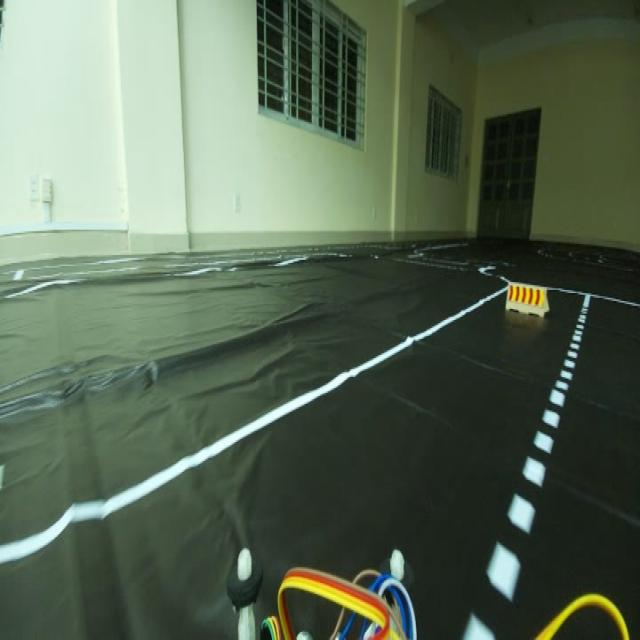roadblock: (502, 276, 552, 323)
